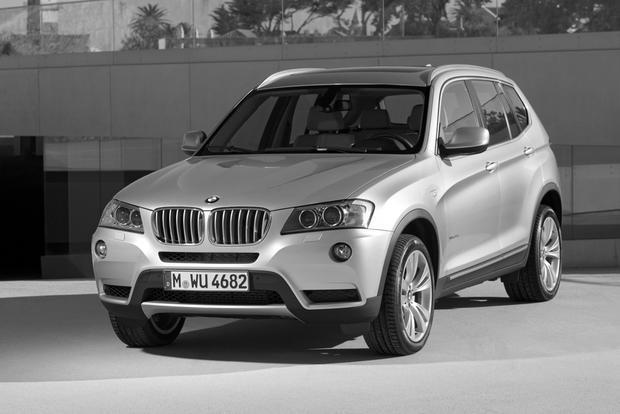car: (90, 64, 567, 360)
